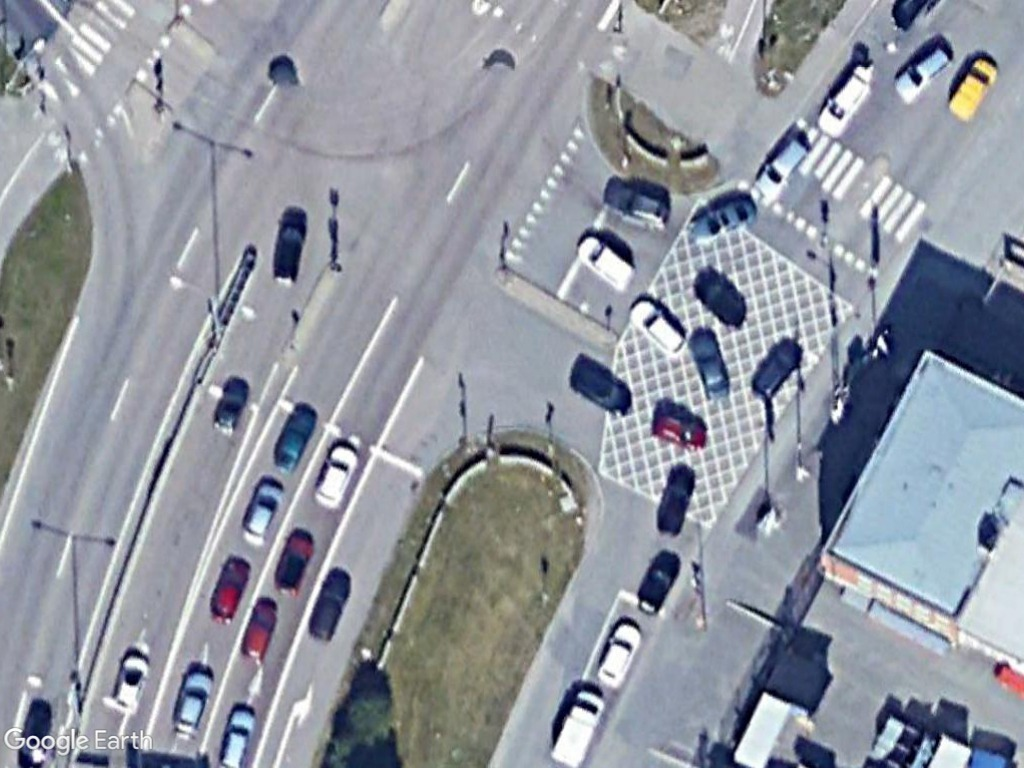car: (748, 124, 816, 200), (813, 67, 874, 143), (745, 330, 806, 404), (570, 359, 638, 424), (889, 38, 958, 101), (592, 616, 649, 692), (166, 660, 217, 743), (628, 292, 689, 359), (304, 567, 355, 647), (203, 545, 253, 626), (239, 472, 289, 550), (685, 323, 734, 402), (271, 398, 321, 472), (600, 181, 676, 229), (233, 593, 282, 667), (632, 551, 686, 616), (106, 644, 153, 717), (646, 406, 715, 452), (269, 209, 309, 288)
van: (544, 682, 610, 768), (570, 230, 641, 295), (942, 54, 1001, 126), (311, 435, 361, 518)
